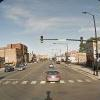Crosswalk: (4, 75, 96, 89)
